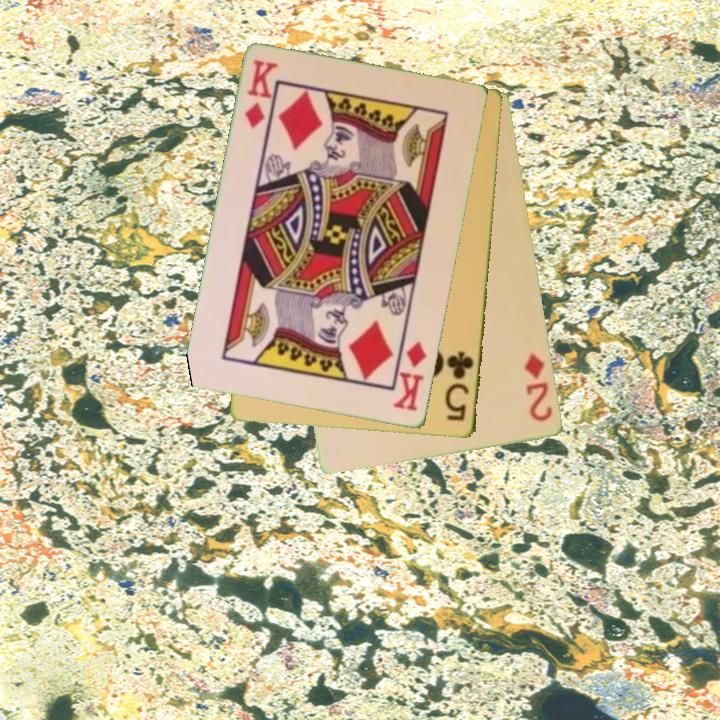2d: (521, 350, 556, 425)
5c: (442, 348, 477, 425)
Kd: (390, 338, 430, 415), (242, 57, 281, 132)
